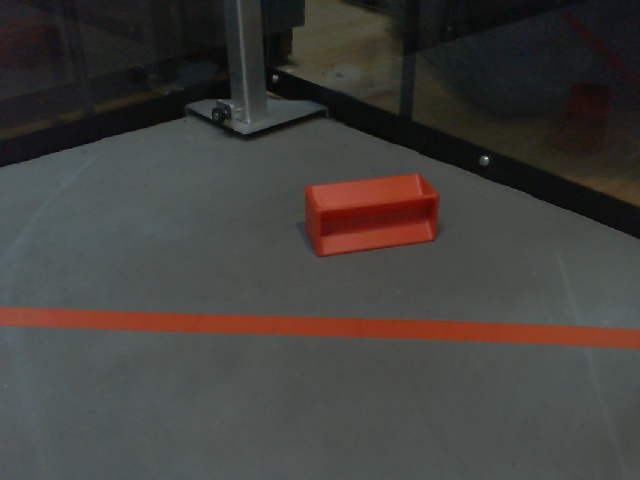RedSample: (302, 168, 438, 257)
